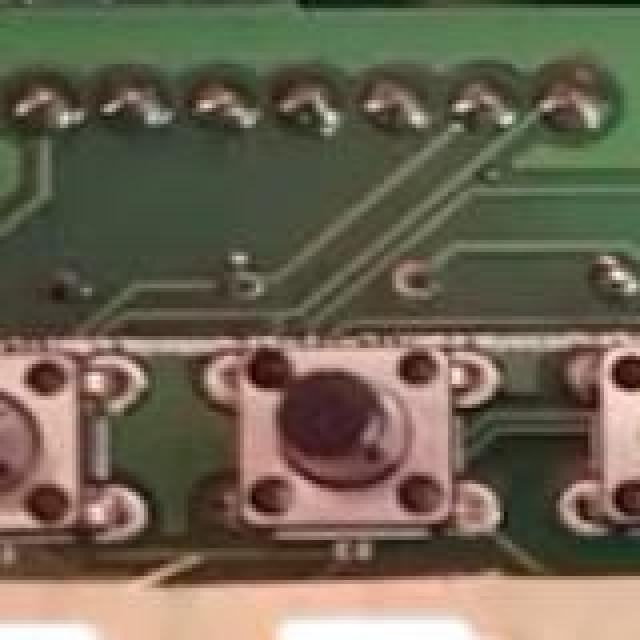display: (0, 576, 640, 640)
switch: (220, 320, 460, 550), (0, 348, 96, 540), (592, 328, 640, 548)
